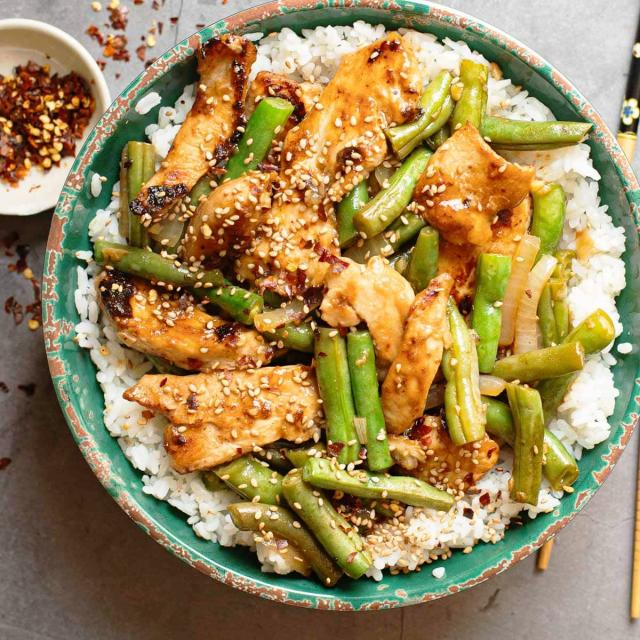String Bean Chicken Breast: (95, 28, 613, 583)
rice: (262, 28, 332, 70), (566, 390, 605, 447), (564, 182, 606, 230), (99, 348, 126, 420), (585, 362, 610, 436), (116, 433, 164, 464), (533, 156, 594, 178), (593, 233, 626, 273), (579, 274, 622, 303), (161, 478, 205, 502), (419, 35, 458, 61), (110, 406, 142, 436)
